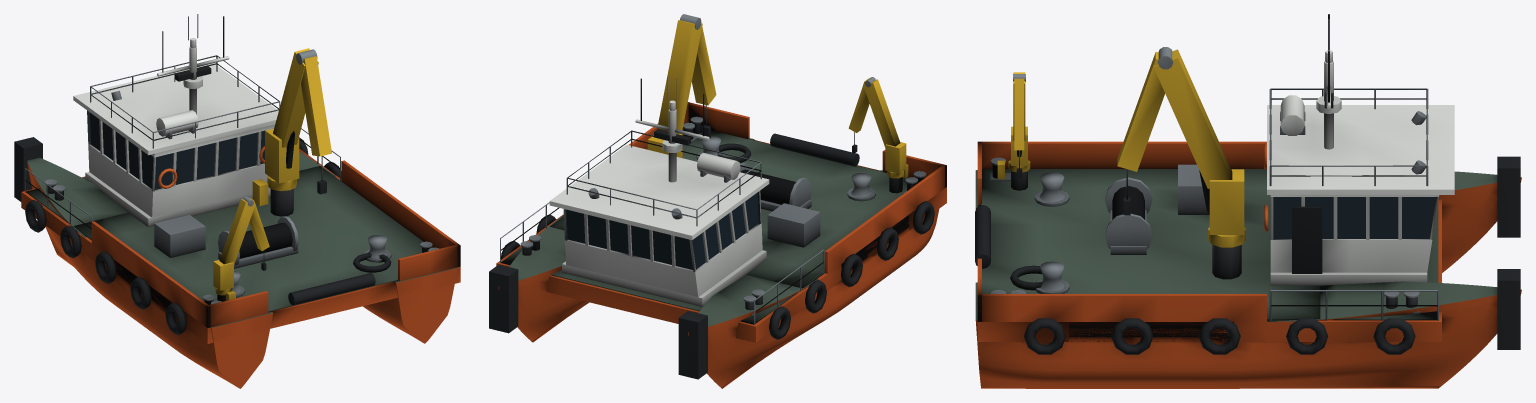
File: workboat_LOD0.glb
3 views of the same model, side by side, from view 1: azimuth 30°, elevation 25°; view 2: azimuth 150°, elevation 25°; view 3: azimuth 270°, elevation 25° (orthographic). The views are drawn at different scales.
Visible parts, largest first — view 1: Hull, Deck, Superstructure, Crane, Rubber, Machinery, Windows; view 2: Superstructure, Hull, Deck, Rubber, Machinery, Crane, Windows; view 3: Hull, Deck, Superstructure, Rubber, Machinery, Crane, Windows.
Part boxes in pixels (box(x1,y1,x2,y2)): Hull: box(21, 149, 460, 388); Deck: box(26, 151, 457, 327); Superstructure: box(73, 38, 278, 226); Crane: box(213, 48, 331, 300); Rubber: box(14, 16, 391, 335); Machinery: box(25, 14, 438, 304); Windows: box(88, 111, 264, 189); Superstructure: box(549, 100, 769, 306); Hull: box(496, 102, 946, 388); Deck: box(501, 128, 906, 332); Rubber: box(489, 78, 934, 379); Machinery: box(500, 14, 926, 325); Crane: box(647, 18, 908, 178); Windows: box(565, 191, 760, 269); Hull: box(975, 141, 1521, 388); Deck: box(975, 169, 1521, 321); Superstructure: box(1267, 50, 1454, 285); Rubber: box(975, 14, 1520, 354); Machinery: box(990, 19, 1438, 320); Crane: box(997, 49, 1245, 247); Windows: box(1273, 197, 1436, 238).
Size of the model in its own units: 10.64 by 9.41 by 15.02.
